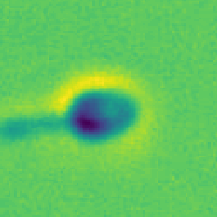normal: (1, 95, 62, 155)
